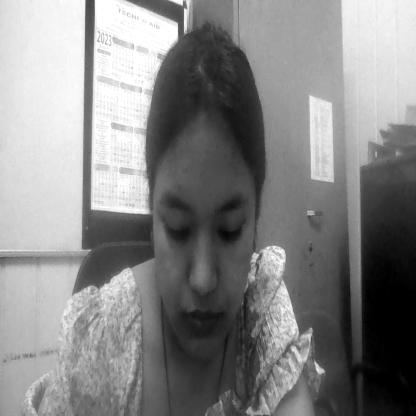Normal: (146, 111, 254, 364)
